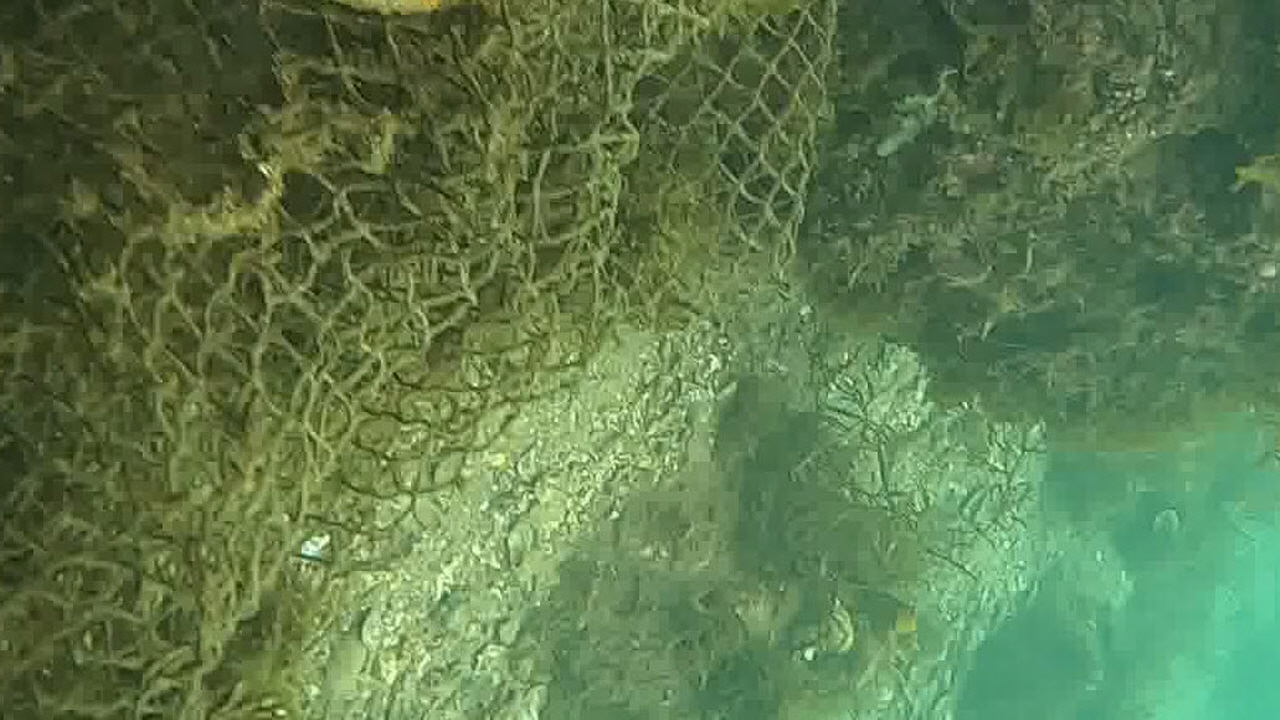fish net: (0, 2, 837, 720)
